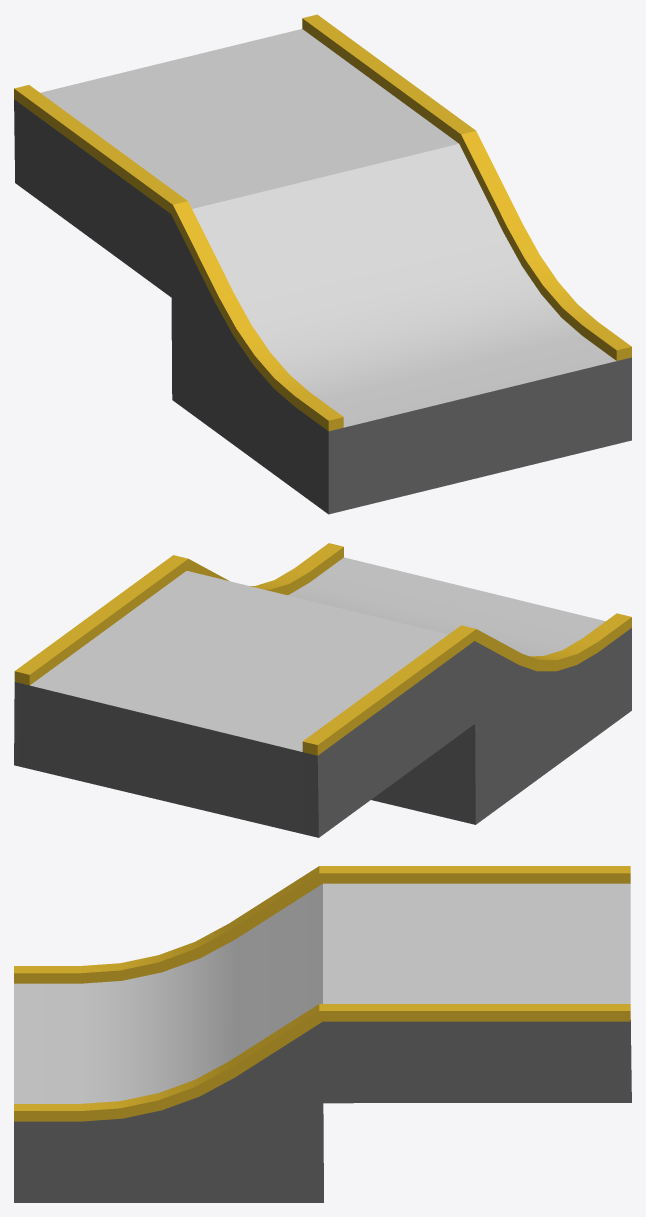
File: Platform_CurvedUp.fbx
The picture shows the model from 3 angles, top to bottom: view 1: azimuth 30°, elevation 25°; view 2: azimuth 150°, elevation 25°; view 3: azimuth 270°, elevation 25°; orthographic projection. The views are drawn at different scales.
Parts seen in each view (by area): view 1: Platform_CurvedUp; view 2: Platform_CurvedUp; view 3: Platform_CurvedUp.
Boxes of the visible parts, bbox=[...] form: Platform_CurvedUp: bbox=[14, 14, 631, 514]; Platform_CurvedUp: bbox=[14, 543, 631, 837]; Platform_CurvedUp: bbox=[14, 866, 631, 1202].
Size of the model in its own units: 1192 by 735 by 2146.
